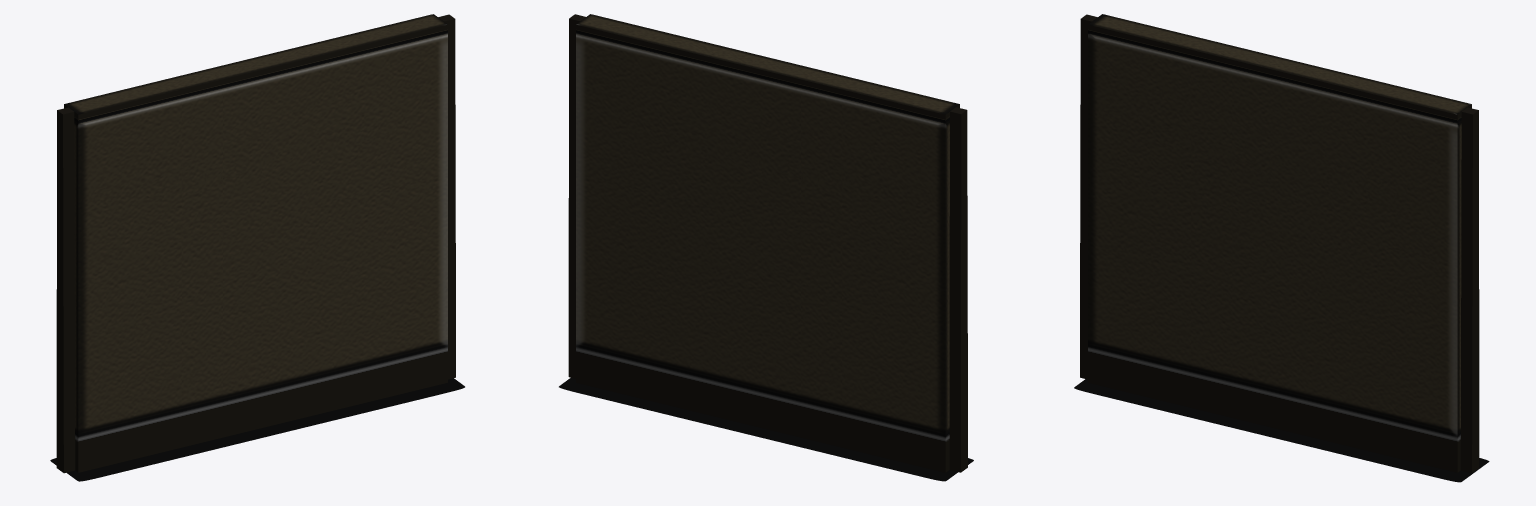
Rendered from partition.fbx.
3 views of the same model, side by side, from view 1: azimuth 30°, elevation 25°; view 2: azimuth 150°, elevation 25°; view 3: azimuth 330°, elevation 25° (orthographic).
Parts seen in each view (by area): view 1: Partition_A_Panel, Partition_A_Shadow; view 2: Partition_A_Panel, Partition_A_Shadow; view 3: Partition_A_Panel, Partition_A_Shadow.
Part boxes in pixels (box(x1,y1,x2,y2)): Partition_A_Panel: box(56, 14, 455, 473); Partition_A_Shadow: box(50, 378, 464, 481); Partition_A_Panel: box(568, 14, 967, 472); Partition_A_Shadow: box(559, 377, 973, 481); Partition_A_Panel: box(1080, 14, 1479, 473); Partition_A_Shadow: box(1074, 379, 1489, 482).
Size of what is drawn, in the model's own units: 17.84 by 13.72 by 2.51.
Materials: 2 (2 with a texture image).
